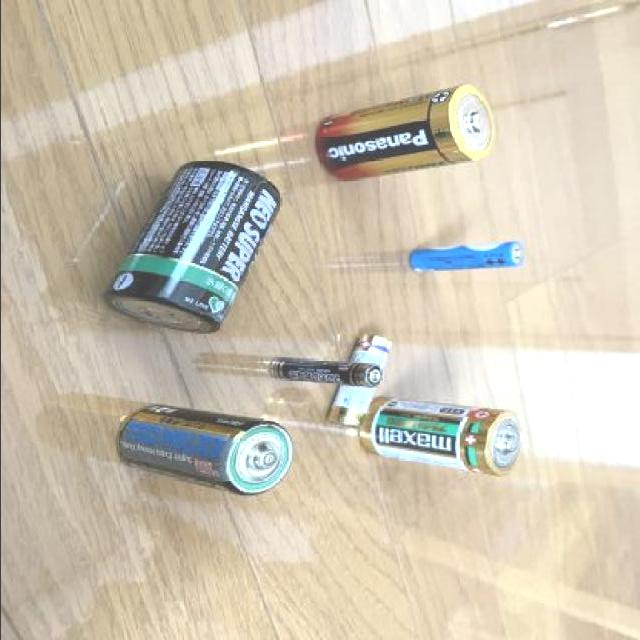AA: (408, 237, 526, 277)
AAA: (263, 356, 385, 390)
